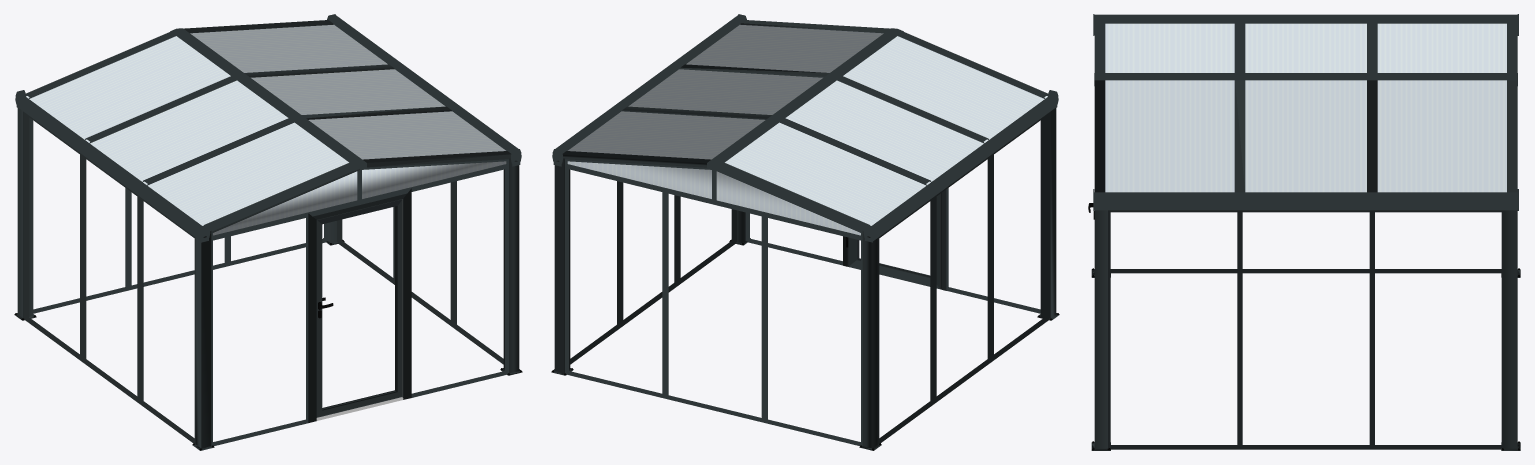
The picture shows the model from 3 angles, left to right: view 1: azimuth 30°, elevation 25°; view 2: azimuth 150°, elevation 25°; view 3: azimuth 270°, elevation 25°; orthographic projection. The views are drawn at different scales.
Visible parts, largest first — view 1: priximbattable_net_serre_13438_serre_3_x_3m_toiture_polycarb, porta, folha; view 2: priximbattable_net_serre_13438_serre_3_x_3m_toiture_polycarb, folha, porta; view 3: priximbattable_net_serre_13438_serre_3_x_3m_toiture_polycarb.
Part boxes in pixels (x1,y1,x2,y2): priximbattable_net_serre_13438_serre_3_x_3m_toiture_polycarb: [14, 14, 522, 450]; porta: [308, 188, 411, 422]; folha: [316, 199, 402, 417]; priximbattable_net_serre_13438_serre_3_x_3m_toiture_polycarb: [551, 14, 1059, 450]; folha: [846, 193, 940, 289]; porta: [843, 190, 946, 290]; priximbattable_net_serre_13438_serre_3_x_3m_toiture_polycarb: [1091, 14, 1520, 450].
Bounding box in the file's own units: 324 × 238 × 327.
1 material, 1 textured.
